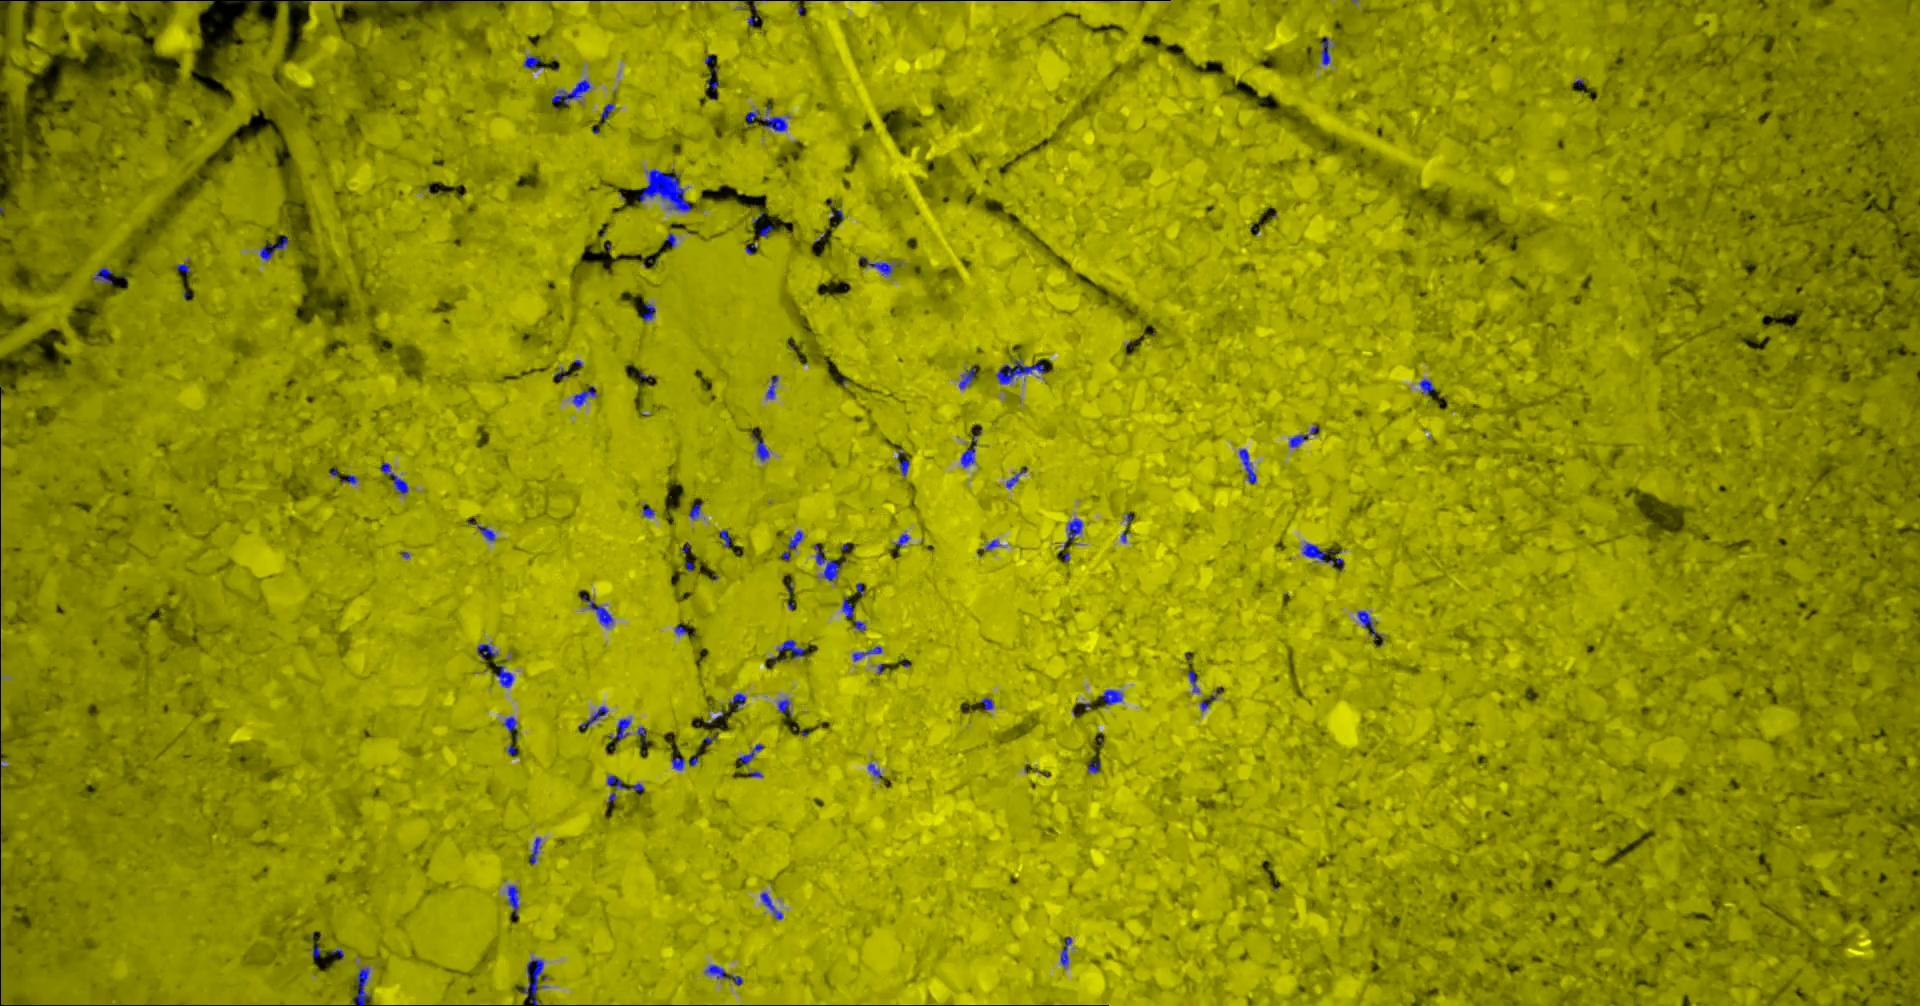ant: (637, 168, 691, 211), (996, 359, 1045, 384), (813, 542, 843, 580), (1302, 542, 1343, 568), (550, 79, 590, 104), (522, 959, 543, 1005), (582, 596, 612, 626), (378, 462, 408, 493), (1357, 610, 1382, 645), (703, 964, 742, 984), (259, 235, 288, 260), (578, 706, 607, 730), (352, 967, 370, 1005), (759, 892, 783, 920), (781, 530, 803, 560), (858, 257, 893, 276), (1238, 448, 1255, 483), (1063, 518, 1082, 547), (960, 434, 977, 467), (777, 639, 805, 658), (571, 385, 596, 406), (1004, 466, 1027, 488), (608, 718, 630, 741), (738, 743, 762, 763), (852, 647, 881, 661), (495, 664, 513, 687), (91, 267, 116, 283), (761, 116, 786, 131), (957, 365, 974, 387), (670, 756, 697, 770), (477, 643, 497, 662), (507, 885, 518, 916), (1101, 688, 1123, 704), (1060, 936, 1070, 967), (530, 837, 541, 864), (756, 437, 768, 460), (523, 55, 543, 69), (841, 597, 853, 619), (1418, 379, 1435, 395), (477, 525, 495, 540), (728, 694, 745, 709), (1200, 694, 1215, 711), (766, 375, 777, 398), (1187, 669, 1199, 692), (599, 103, 615, 119), (1321, 36, 1330, 64), (643, 302, 655, 321), (1288, 434, 1307, 447), (606, 775, 625, 788), (717, 528, 730, 546), (777, 699, 790, 716), (977, 697, 993, 710), (688, 503, 701, 518), (898, 459, 909, 475), (503, 716, 516, 730), (1087, 760, 1100, 774), (643, 503, 654, 517), (350, 0, 423, 1)
